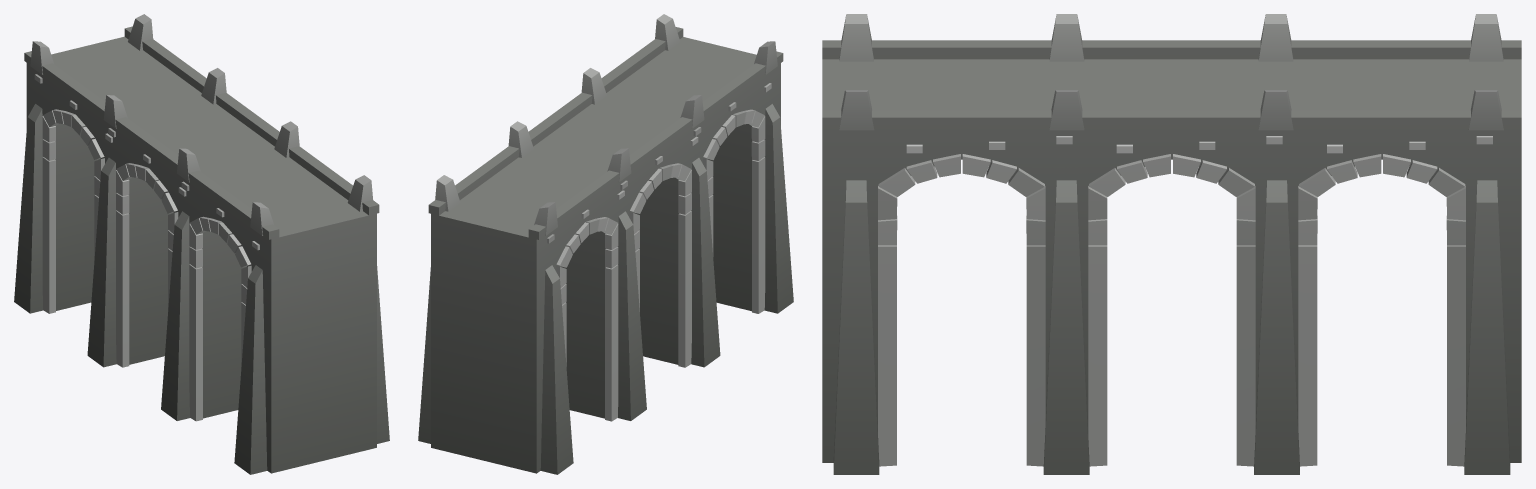
3 renders of one model, left to right at view 1: azimuth 30°, elevation 25°; view 2: azimuth 150°, elevation 25°; view 3: azimuth 270°, elevation 25°, orthographic. The views are drawn at different scales.
Visible parts, largest first — view 1: BridgeFull_0; view 2: BridgeFull_0; view 3: BridgeFull_0.
Boxes of the visible parts, <box> form: BridgeFull_0: <box>14,14,389,474</box>; BridgeFull_0: <box>418,14,793,474</box>; BridgeFull_0: <box>822,14,1521,474</box>.
Bounding box in the file's own units: 14.43 × 25.83 × 43.79.
Materials: 1 (1 with a texture image).
